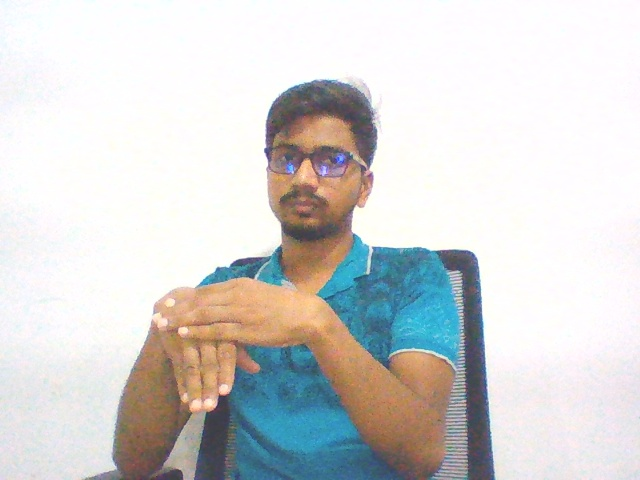pineapple: (139, 264, 326, 421)
